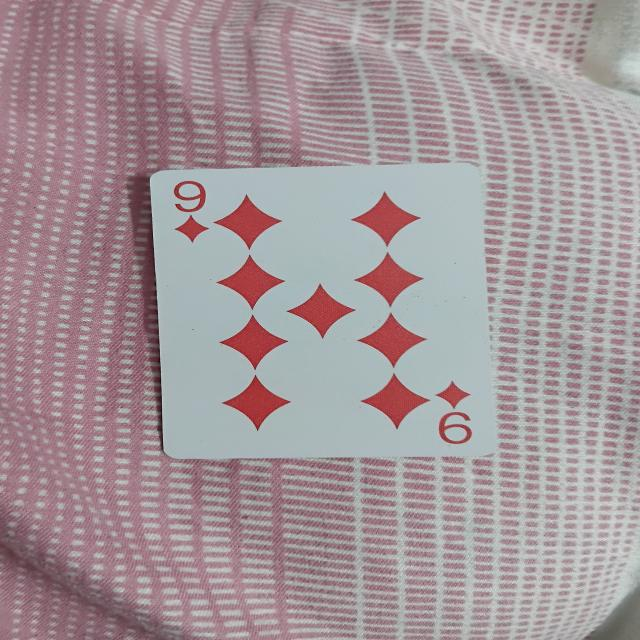9D: (140, 164, 503, 460)
